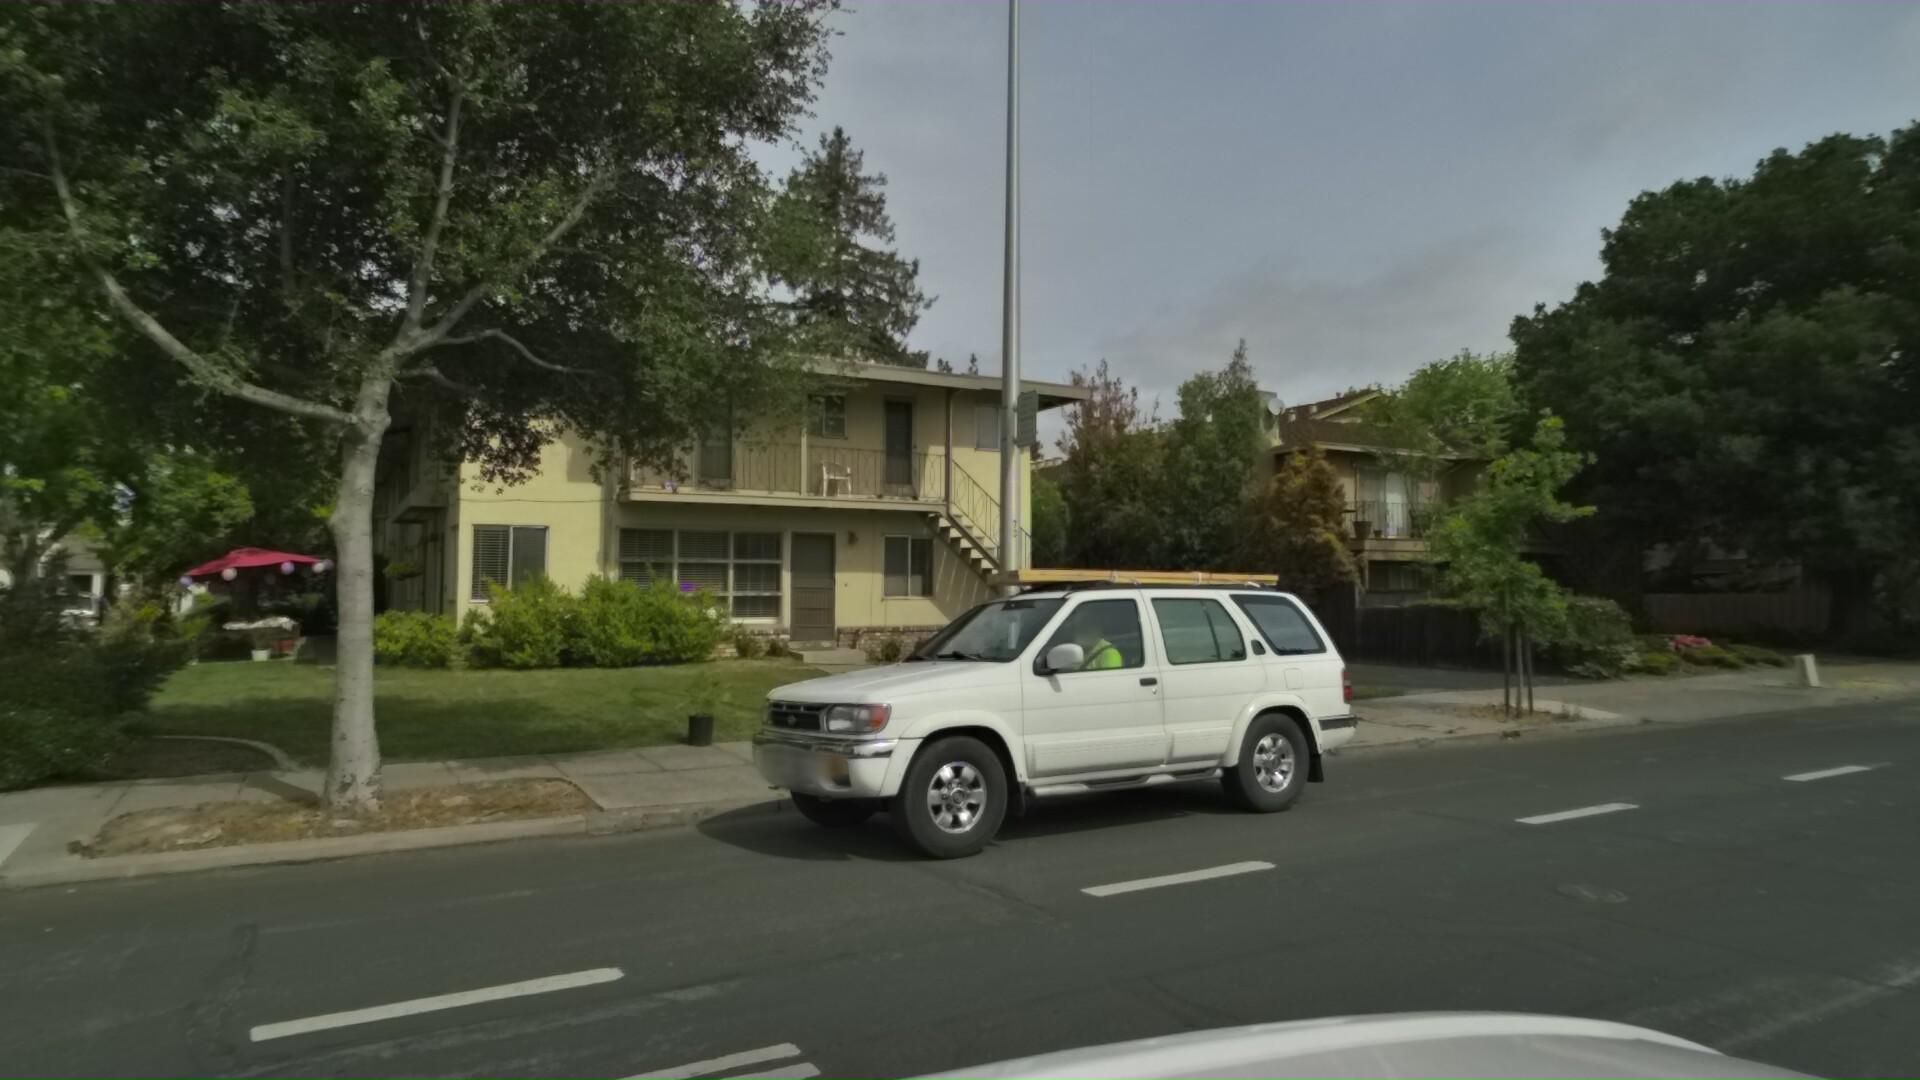car: (655, 546, 1352, 927), (9, 588, 112, 647), (0, 578, 36, 670)
